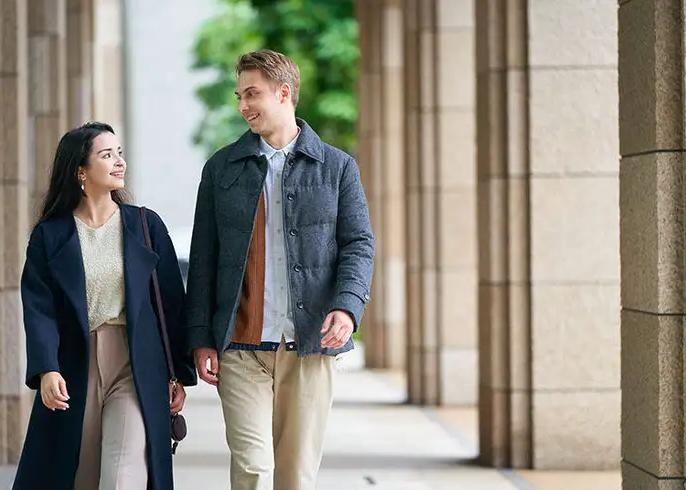jacket: (8, 202, 193, 490), (187, 118, 377, 359)
long sleeve shirt: (252, 132, 304, 352)
sweater: (70, 202, 133, 334)
trousers: (216, 341, 339, 490), (70, 320, 151, 490)
